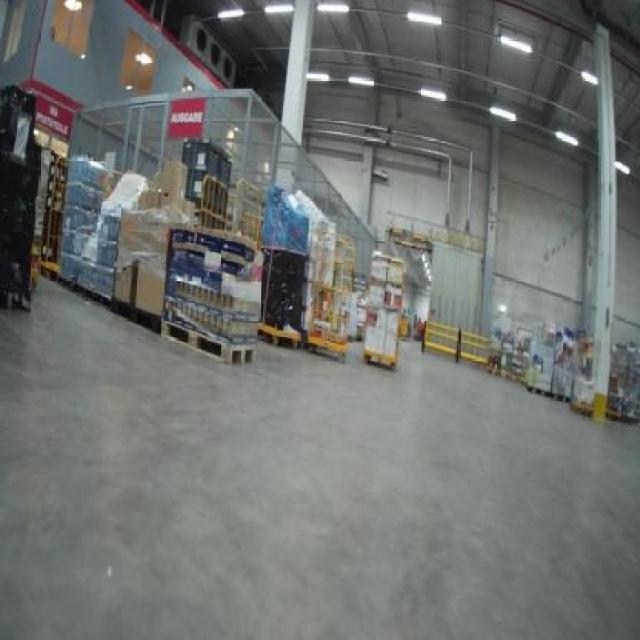floor: (0, 277, 637, 637)
pallets: (160, 226, 260, 360), (362, 249, 403, 366)
